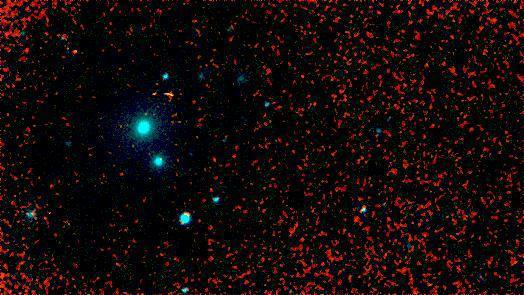star: (138, 78, 168, 108)
